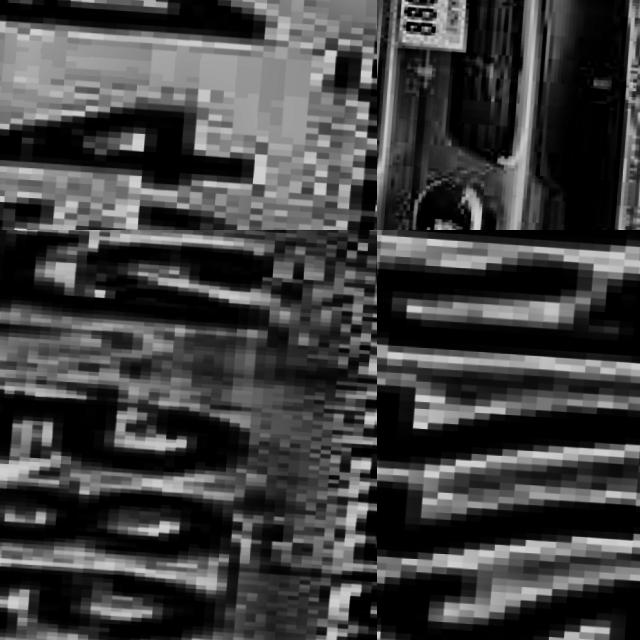license-plate: (0, 230, 377, 640), (377, 230, 640, 640), (0, 0, 377, 230), (387, 0, 486, 62)
